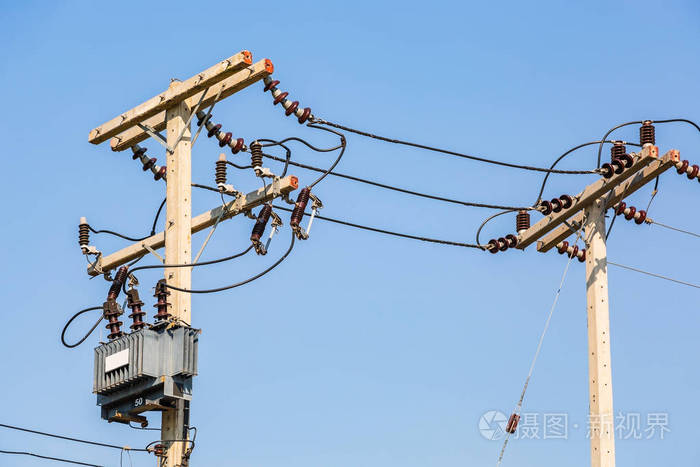insulator: (265, 79, 310, 122), (197, 113, 243, 152), (131, 143, 167, 181), (539, 194, 575, 214), (615, 200, 645, 224), (602, 154, 634, 176), (558, 242, 588, 264), (488, 235, 519, 252), (676, 161, 700, 179)
